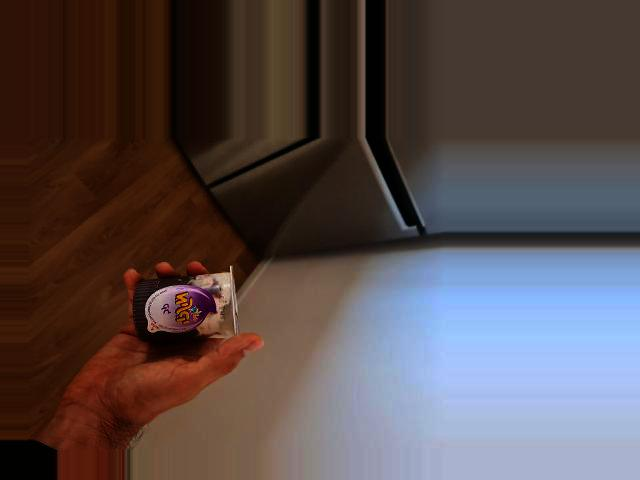milky: (131, 264, 239, 346)
